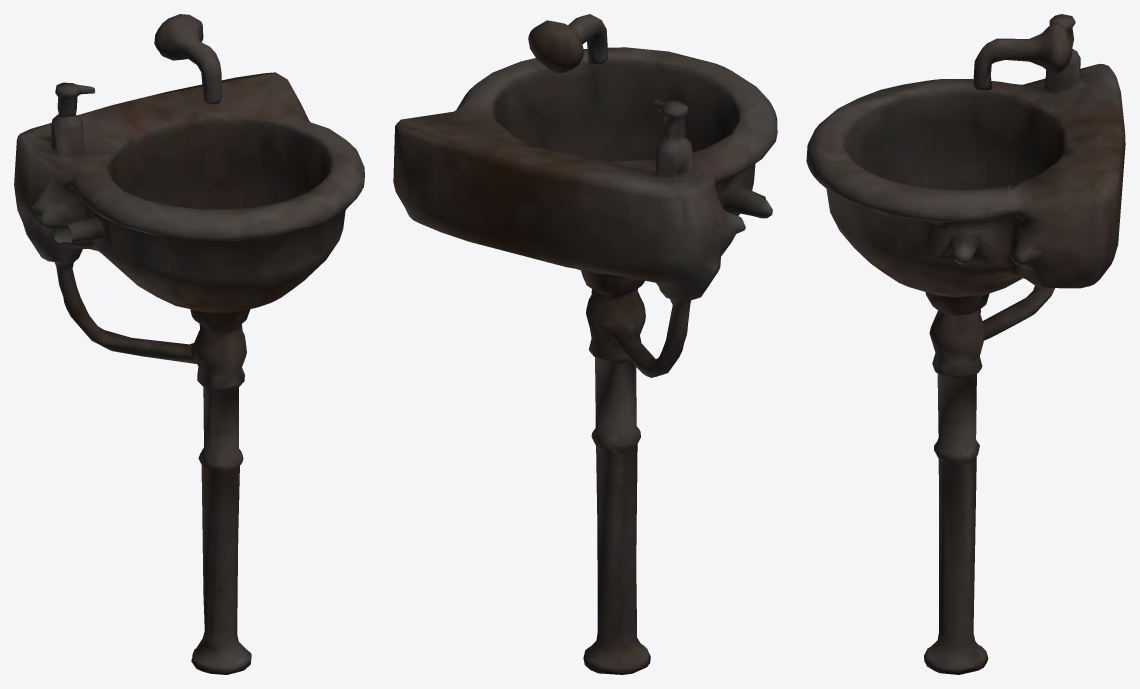
File: old-iron-washbasin-v001.glb
3 views of the same model, side by side, from view 1: azimuth 30°, elevation 25°; view 2: azimuth 150°, elevation 25°; view 3: azimuth 270°, elevation 25° (orthographic). The views are drawn at different scales.
Visible parts, largest first — view 1: old-iron-washbasin; view 2: old-iron-washbasin; view 3: old-iron-washbasin.
Part boxes in pixels (x1,y1,x2,y2): old-iron-washbasin: (14,14,364,674); old-iron-washbasin: (393,14,777,674); old-iron-washbasin: (806,14,1125,674).
Bounding box in the file's own units: 0.483 × 0.9486 × 0.4281.
1 material, 1 textured.
